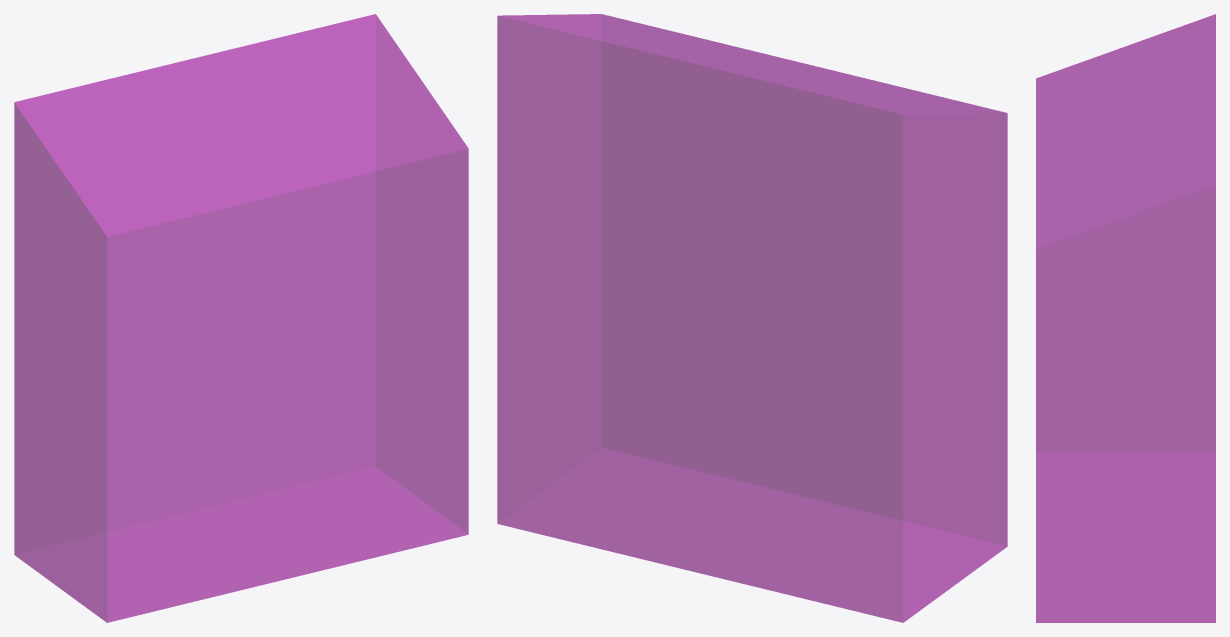
Rendered from SM_Bld_Shrine_Steps_01_Collision.fbx.
3 views of the same model, side by side, from view 1: azimuth 30°, elevation 25°; view 2: azimuth 150°, elevation 25°; view 3: azimuth 270°, elevation 25° (orthographic). The views are drawn at different scales.
Parts seen in each view (by area): view 1: SM_Bld_Shrine_Steps_01_Collision; view 2: SM_Bld_Shrine_Steps_01_Collision; view 3: SM_Bld_Shrine_Steps_01_Collision.
Boxes of the visible parts, box(x1,y1,x2,y2) form: SM_Bld_Shrine_Steps_01_Collision: box(14, 14, 468, 622); SM_Bld_Shrine_Steps_01_Collision: box(497, 14, 1007, 622); SM_Bld_Shrine_Steps_01_Collision: box(1036, 14, 1215, 622).
Size of the model in its own units: 505 by 605 by 225.
